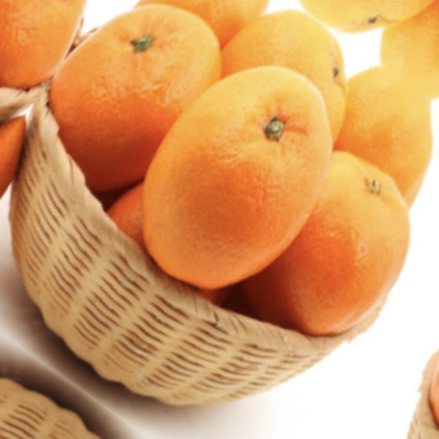orange: (98, 22, 387, 327), (210, 113, 439, 385), (0, 0, 259, 238)
